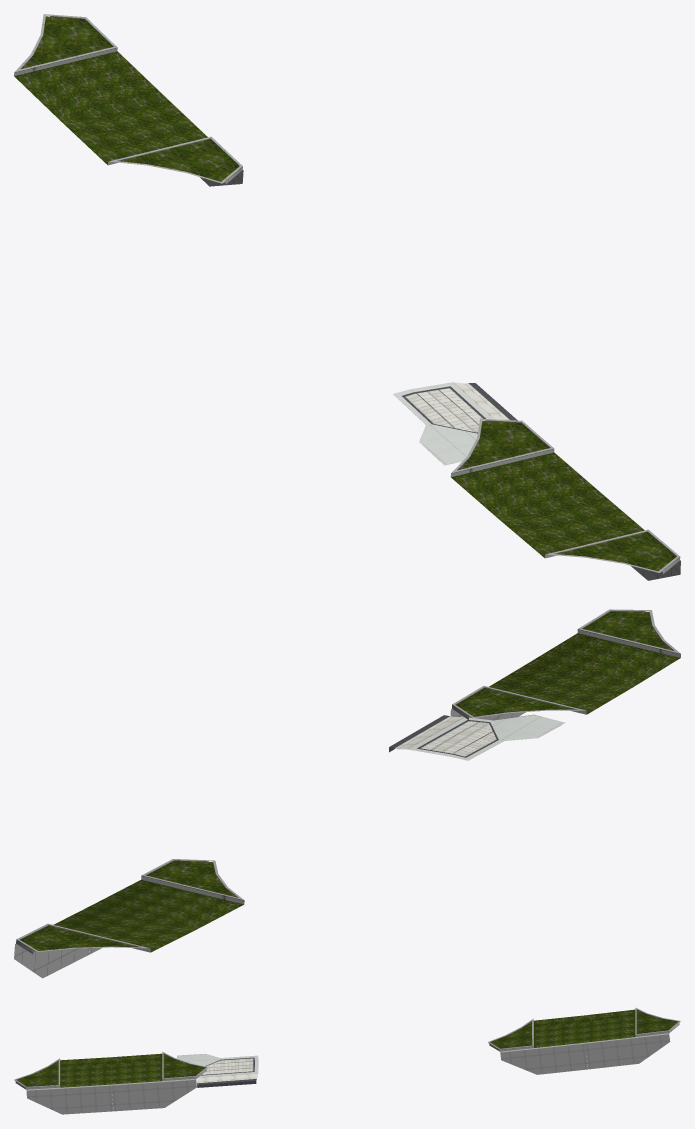
File: STA20_57.FBX
3 renders of one model, top to bottom at view 1: azimuth 30°, elevation 25°; view 2: azimuth 150°, elevation 25°; view 3: azimuth 270°, elevation 25°, orthographic. The views are drawn at different scales.
Parts seen in each view (by area): view 1: STA20_57; view 2: STA20_57; view 3: STA20_57.
Part boxes in pixels (box(x1,y1,x2,y2)): STA20_57: box(14, 14, 680, 580); STA20_57: box(14, 609, 680, 978); STA20_57: box(14, 1007, 680, 1114).
Size of the model in its own units: 24.92 by 33.53 by 239.
